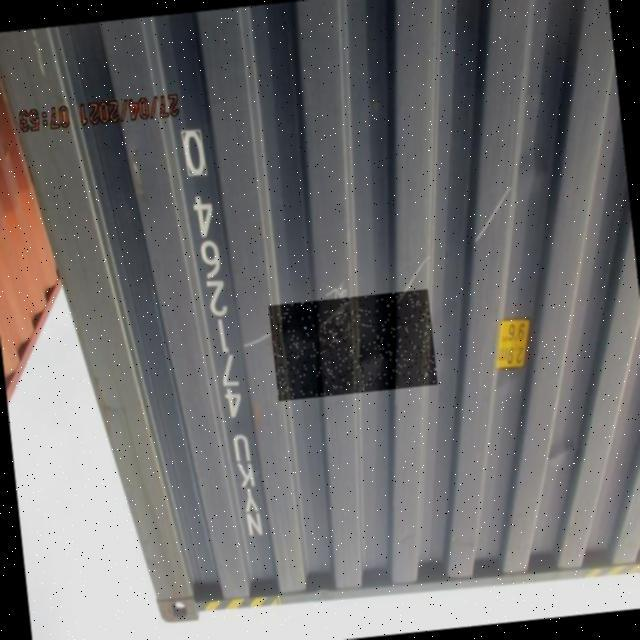Minor-Dent: (269, 289, 438, 401)
